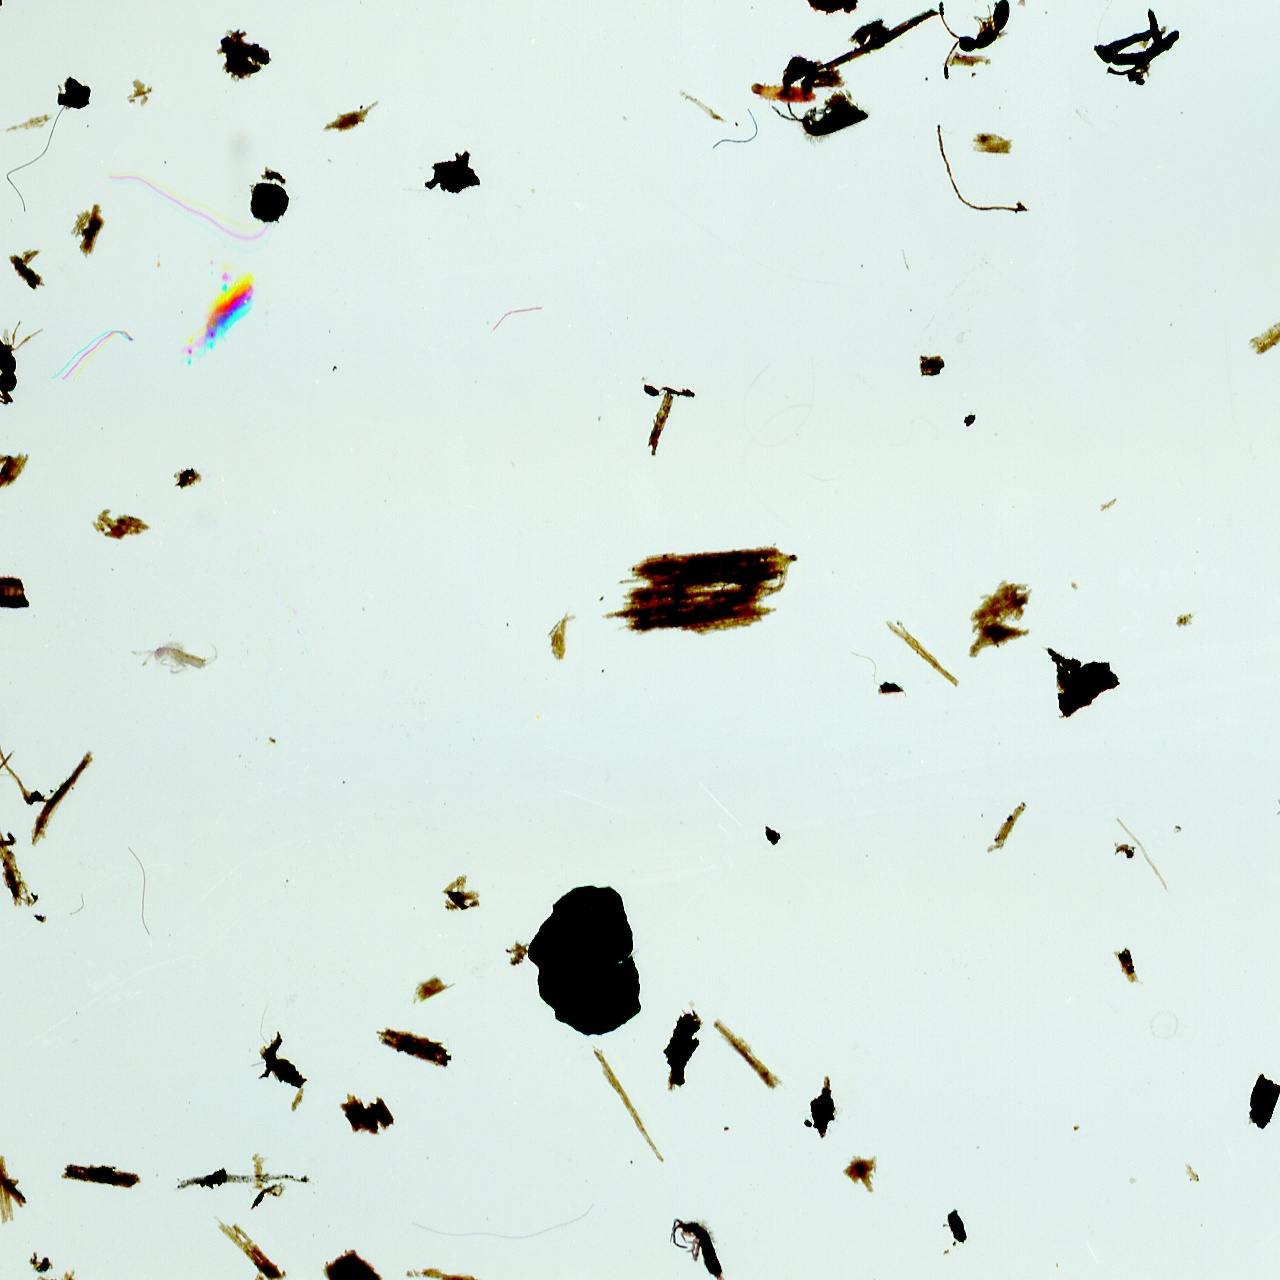arthropod: (162, 261, 278, 380), (652, 1198, 759, 1280), (0, 293, 68, 414), (936, 0, 1012, 80), (127, 636, 224, 679), (748, 78, 818, 107), (1273, 778, 1280, 818)
